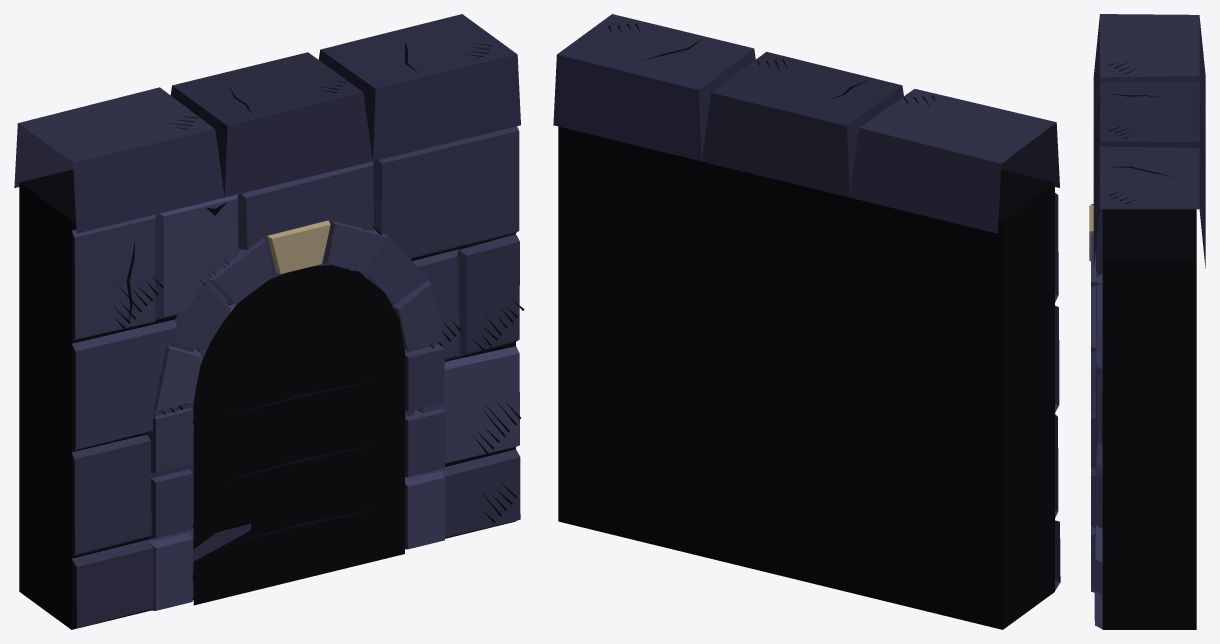
File: wall_arched.glb
The picture shows the model from 3 angles, left to right: view 1: azimuth 30°, elevation 25°; view 2: azimuth 150°, elevation 25°; view 3: azimuth 270°, elevation 25°; orthographic projection. The views are drawn at different scales.
Parts seen in each view (by area): view 1: wall_arched.001; view 2: wall_arched.001; view 3: wall_arched.001.
Boxes of the visible parts, <box> form: wall_arched.001: <box>14,14,524,629</box>; wall_arched.001: <box>553,14,1060,629</box>; wall_arched.001: <box>1089,14,1205,629</box>.
Bounding box in the file's own units: 4 × 4 × 1.
